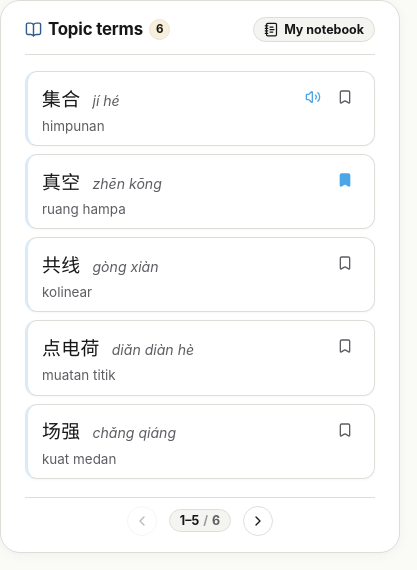
it: selecting a term opens the in-rail inspector with stepper and full card details
Click the button with aria-label "集合, jí hé" at (61, 99), box [25,71,375,146]
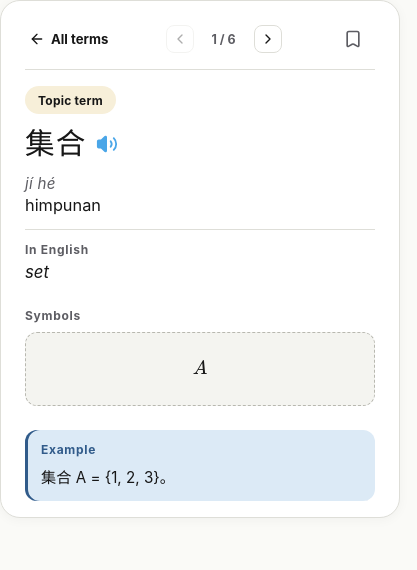
Expected: the button "All terms" is shown, [21,27,116,51]
Expected: the text "1 / 6" is shown, [212,32,236,46]
Expected: the text "set" is shown, [25,262,49,282]
// Next button switches to term 2
Click the button named "Next term" at (268, 39), box [254,25,282,53]
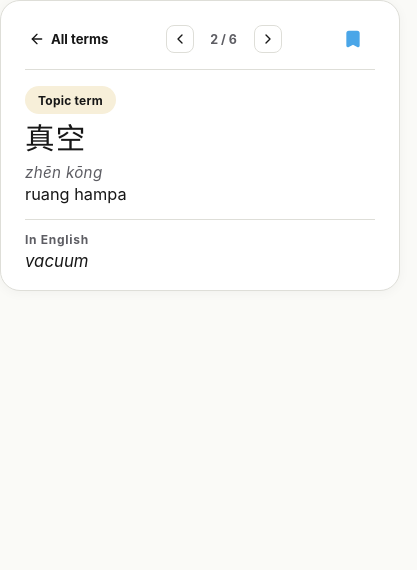
Expected: the text "2 / 6" is shown, [210,32,237,46]
Expected: the text "vacuum" is shown, [25,251,89,271]
// Back button returns to list view
Click the button "All terms" at (69, 39), box [21,27,116,51]
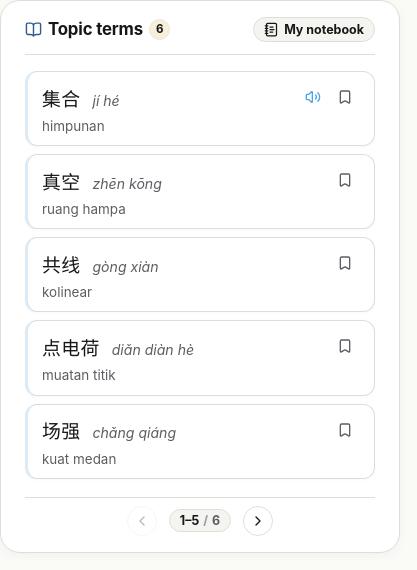
Expected: the text "1 / 6" is not shown
Expected: the heading "Topic terms" is shown, [48,20,143,40]
